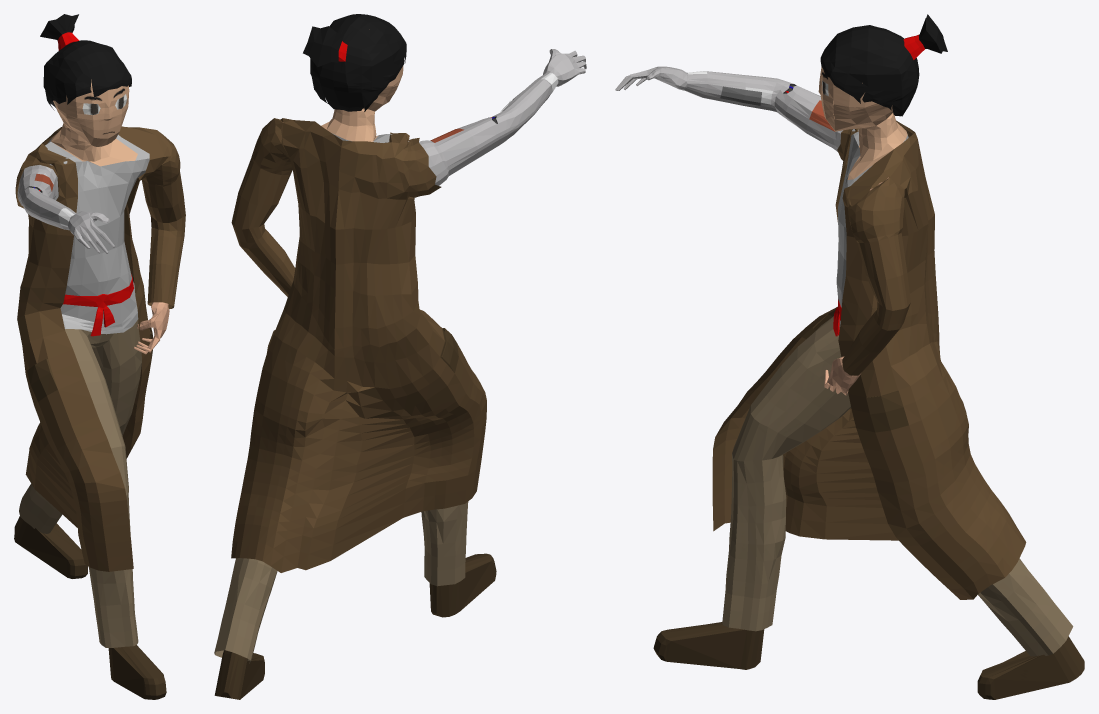
File: Special_Attack_000031.obj
3 renders of one model, left to right at view 1: azimuth 30°, elevation 25°; view 2: azimuth 150°, elevation 25°; view 3: azimuth 270°, elevation 25°, orthographic. The views are drawn at different scales.
Visible parts, largest first — view 1: Hair_Cube.004; view 2: Hair_Cube.004; view 3: Hair_Cube.004.
Part boxes in pixels (x1,y1,x2,y2): Hair_Cube.004: [14, 14, 185, 699]; Hair_Cube.004: [214, 14, 586, 699]; Hair_Cube.004: [615, 14, 1084, 699].
Bounding box in the file's own units: 1.42 × 3.76 × 2.42.
